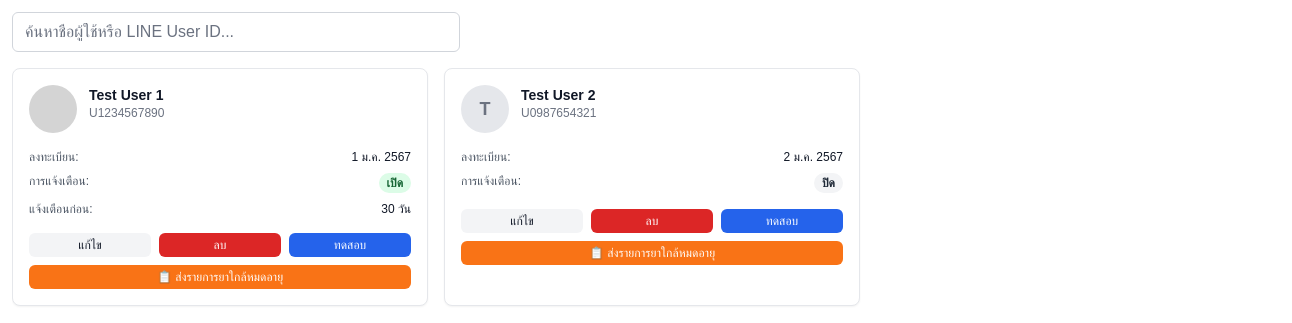
Test: LineUserList › Toast Notifications (Requirements 5.3, 5.4) › should display error toast with proper styling
Click the button "ทดสอบ" below "แจ้งเตือนก่อน:": (350, 245) x1=289 y1=233 x2=411 y2=257
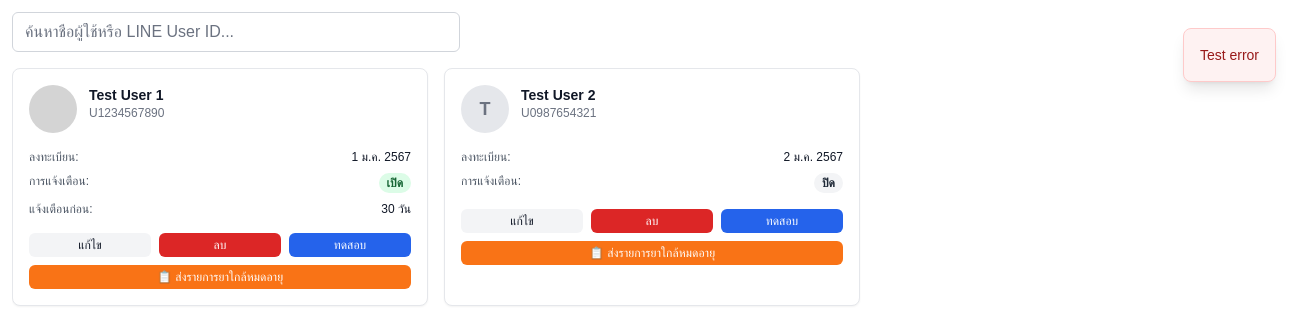
Now the text "Test error" is shown, box x1=1200 y1=45 x2=1259 y2=65
